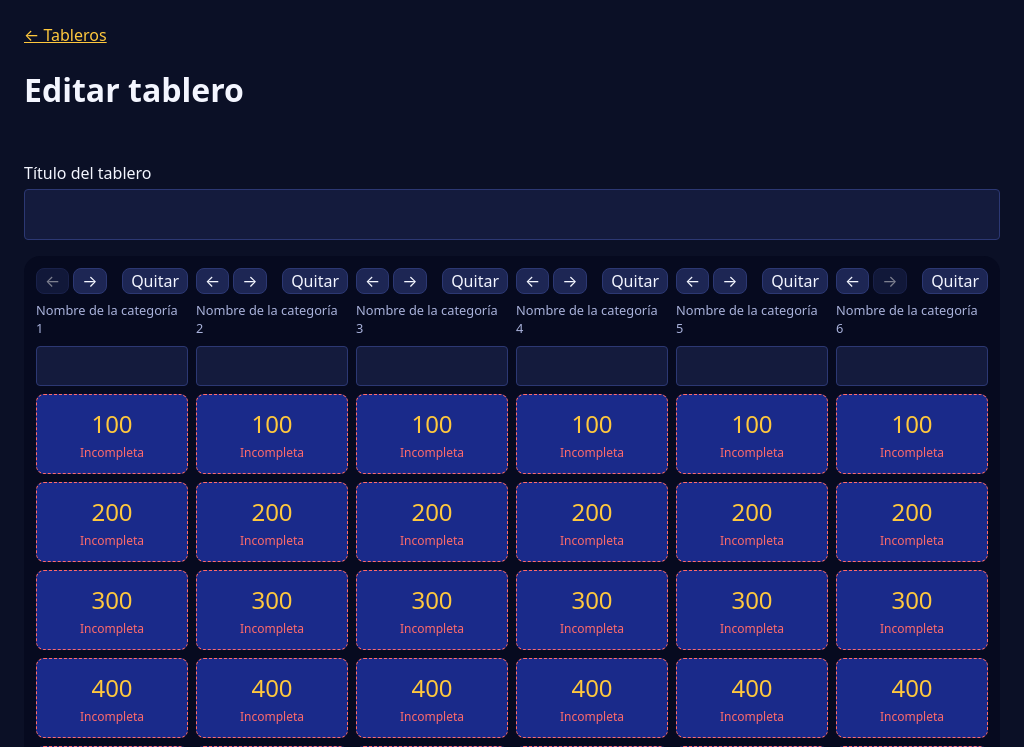
Test: EditorScreen › cierra el diálogo con Escape
The image size is (1024, 747).
Expected: the field labelled "Título del tablero" is shown, [24,189,1000,240]
Click the button with aria-label "Categoría 1, 100, incompleta". click: (112, 434)
box: [36,394,188,474]
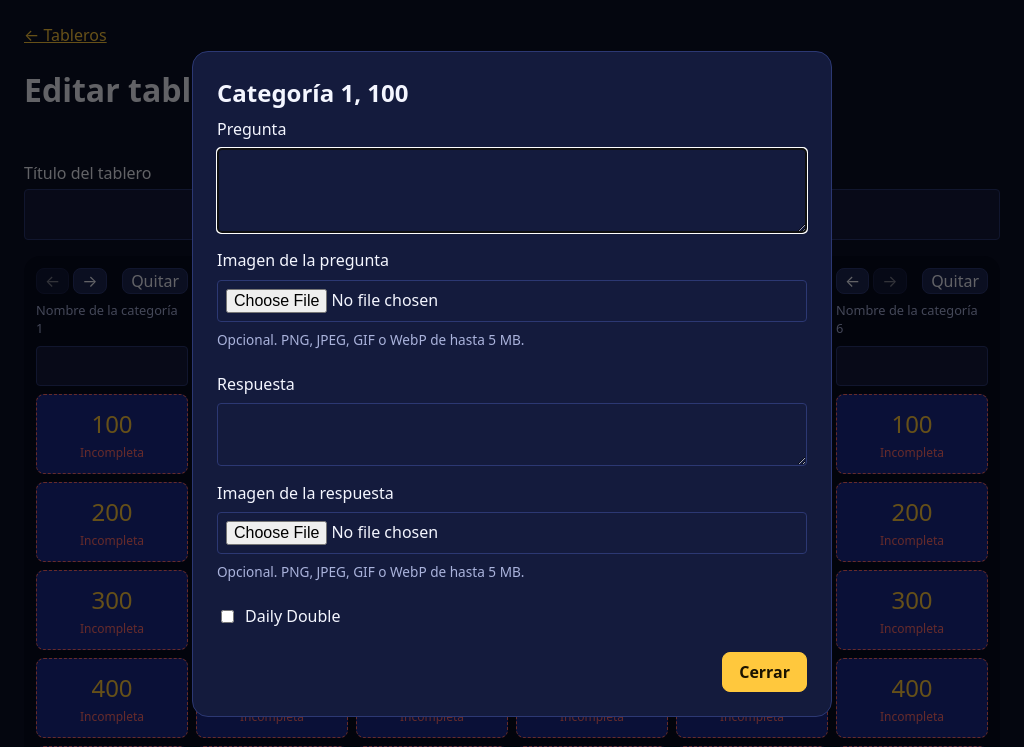
Expected: the dialog is shown, [192,51,832,717]
Press Escape
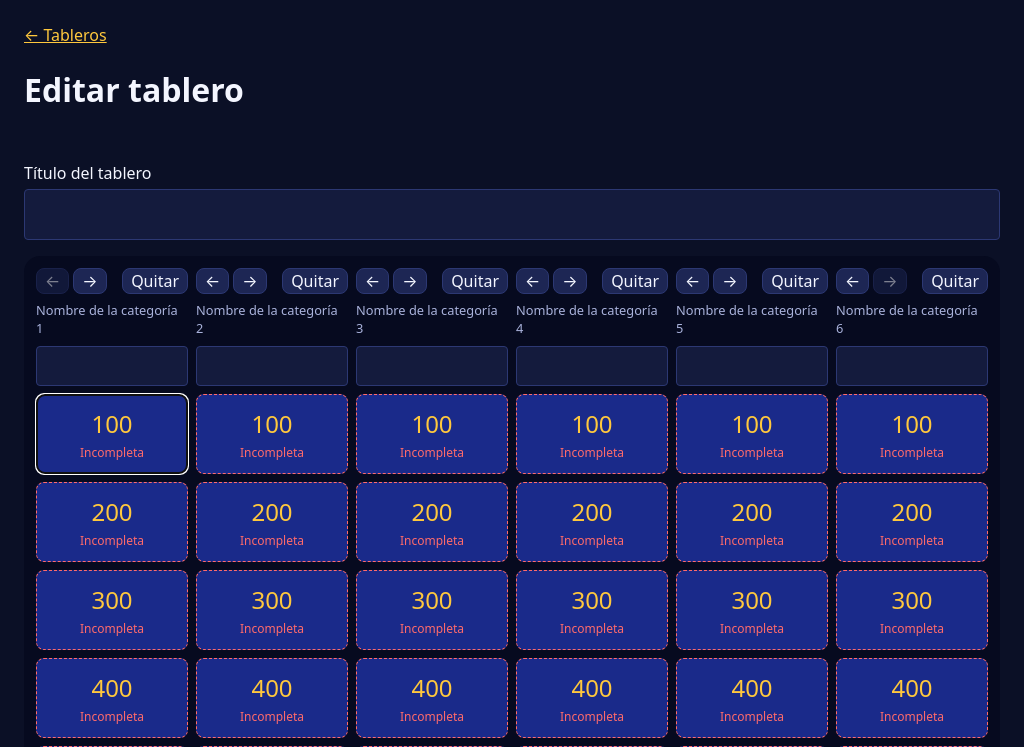
Expected: the dialog is gone
